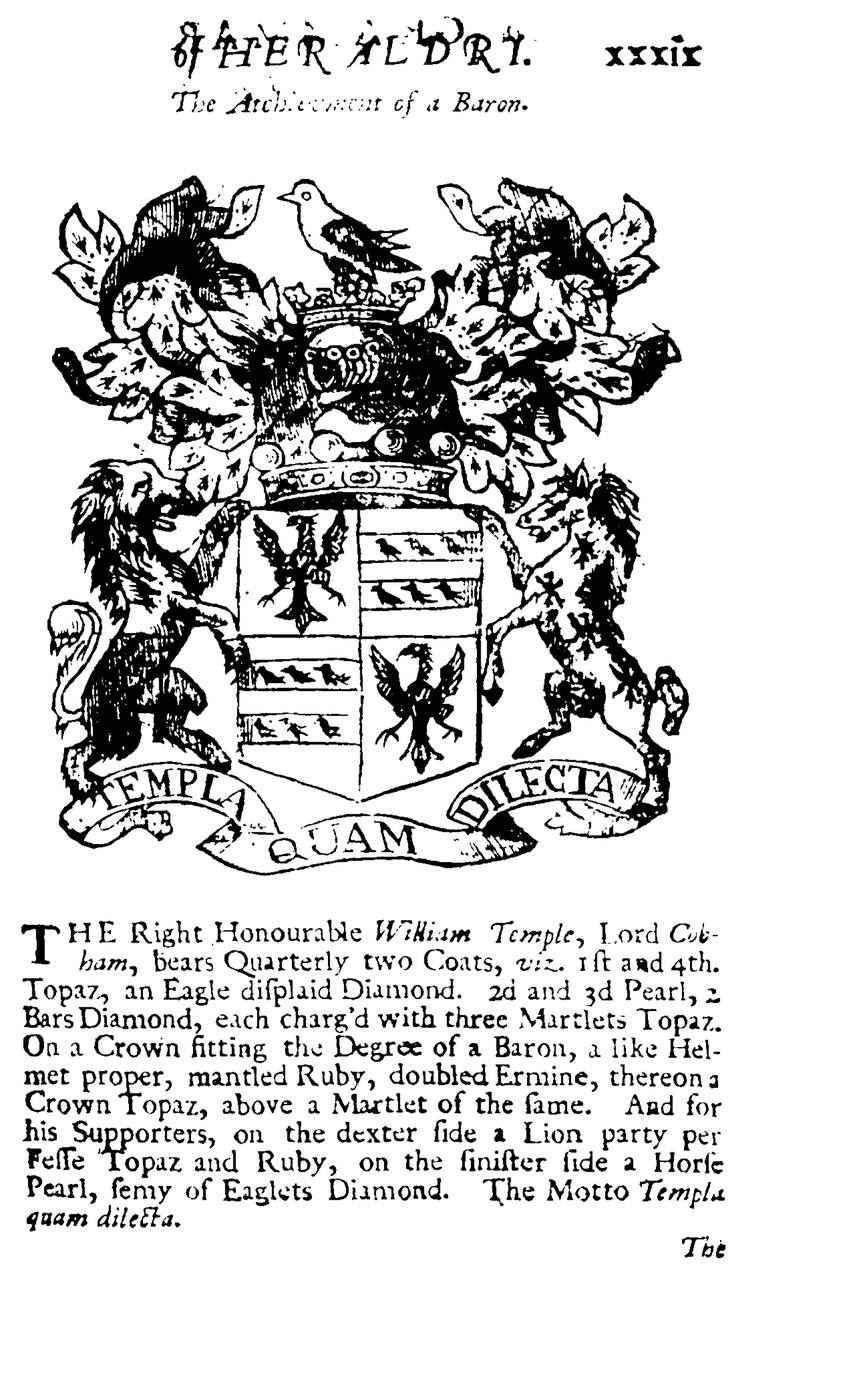coat_of_arms: (36, 128, 737, 876)
